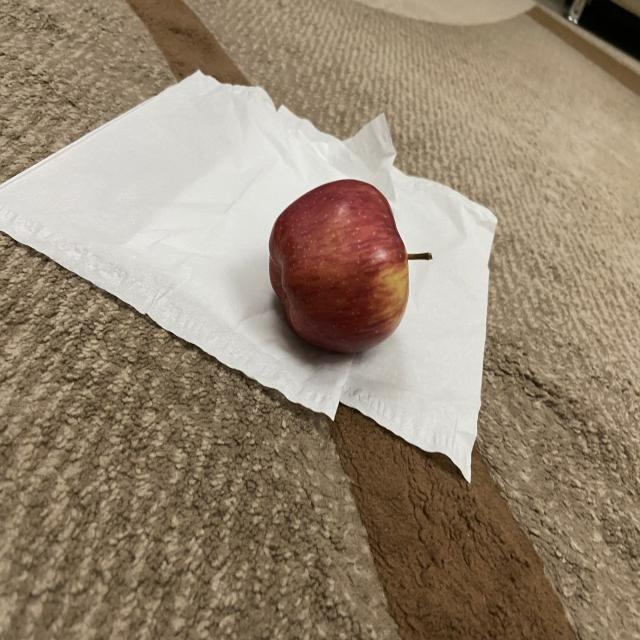apple: (264, 169, 440, 366)
